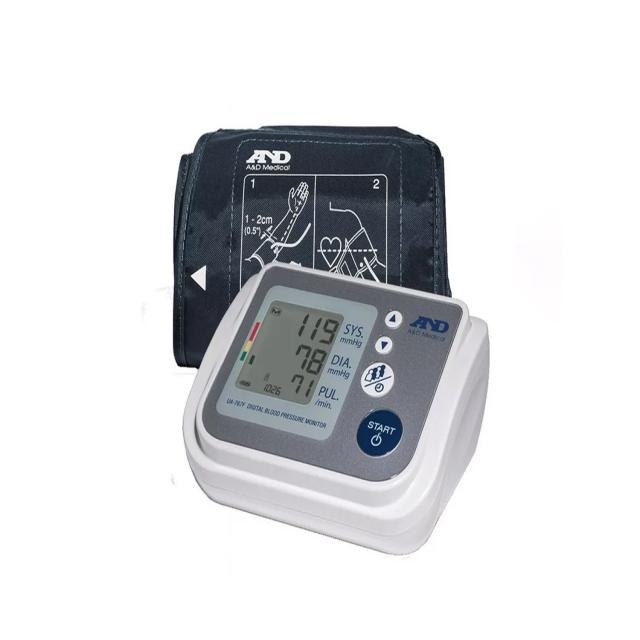dia: (286, 335, 331, 380)
pul: (280, 364, 318, 401)
ssd: (233, 288, 343, 415)
sys: (288, 304, 341, 350)
